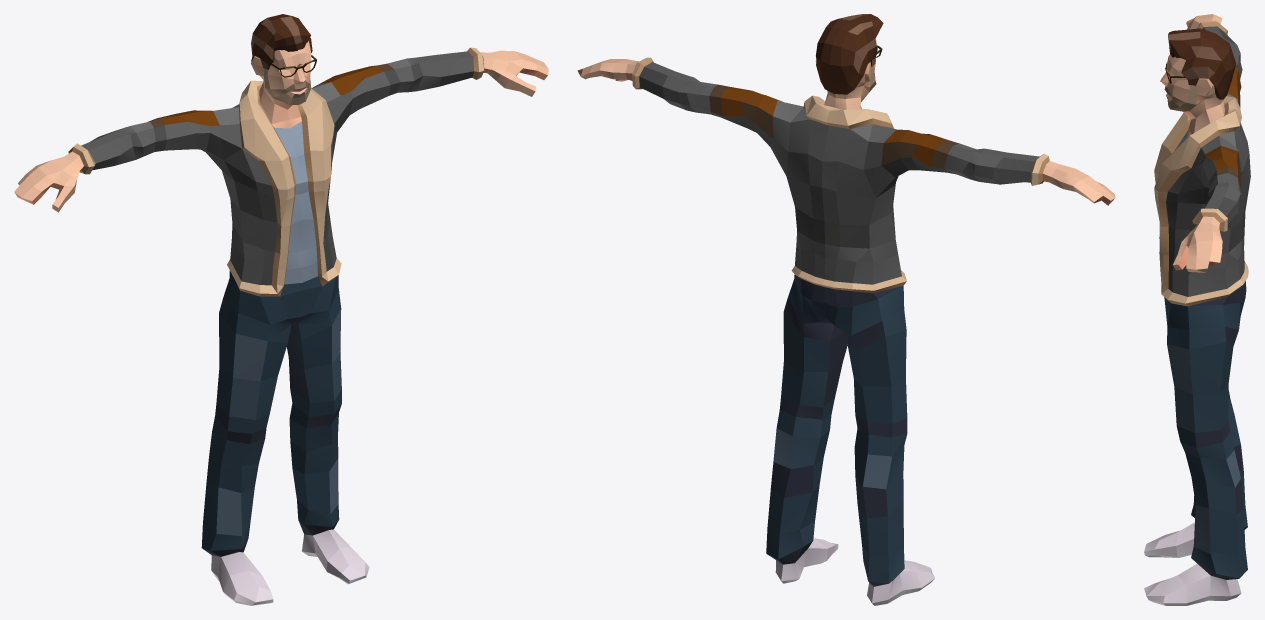
File: winter_Male_A-model.obj
3 views of the same model, side by side, from view 1: azimuth 30°, elevation 25°; view 2: azimuth 150°, elevation 25°; view 3: azimuth 270°, elevation 25° (orthographic). The views are drawn at different scales.
Visible parts, largest first — view 1: winter_Male_A, acc_mean_hair_hpstr; view 2: winter_Male_A, acc_mean_hair_hpstr; view 3: winter_Male_A, acc_mean_hair_hpstr.
Part boxes in pixels (box(x1,y1,x2,y2)): winter_Male_A: box(14, 41, 548, 605); acc_mean_hair_hpstr: box(251, 14, 312, 69); winter_Male_A: box(577, 39, 1115, 605); acc_mean_hair_hpstr: box(816, 14, 883, 94); winter_Male_A: box(1144, 14, 1250, 605); acc_mean_hair_hpstr: box(1168, 28, 1236, 99).
Size of the model in its own units: 182 by 183 by 32.64.
